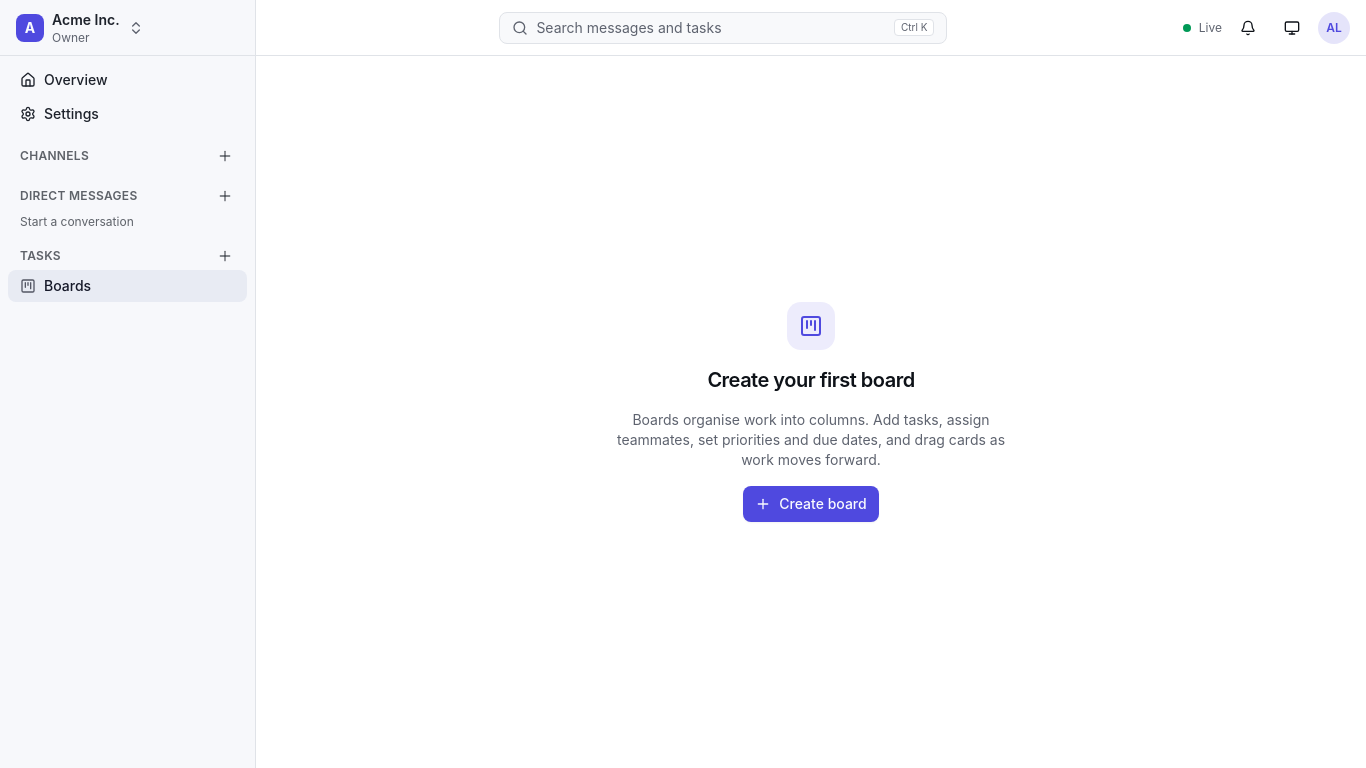
Test: boards › offers to create the first board and opens it
Expected: the heading "Create your first board" is shown, [707, 366, 915, 394]
Click the button "Create board" at (811, 504), box [743, 486, 879, 522]
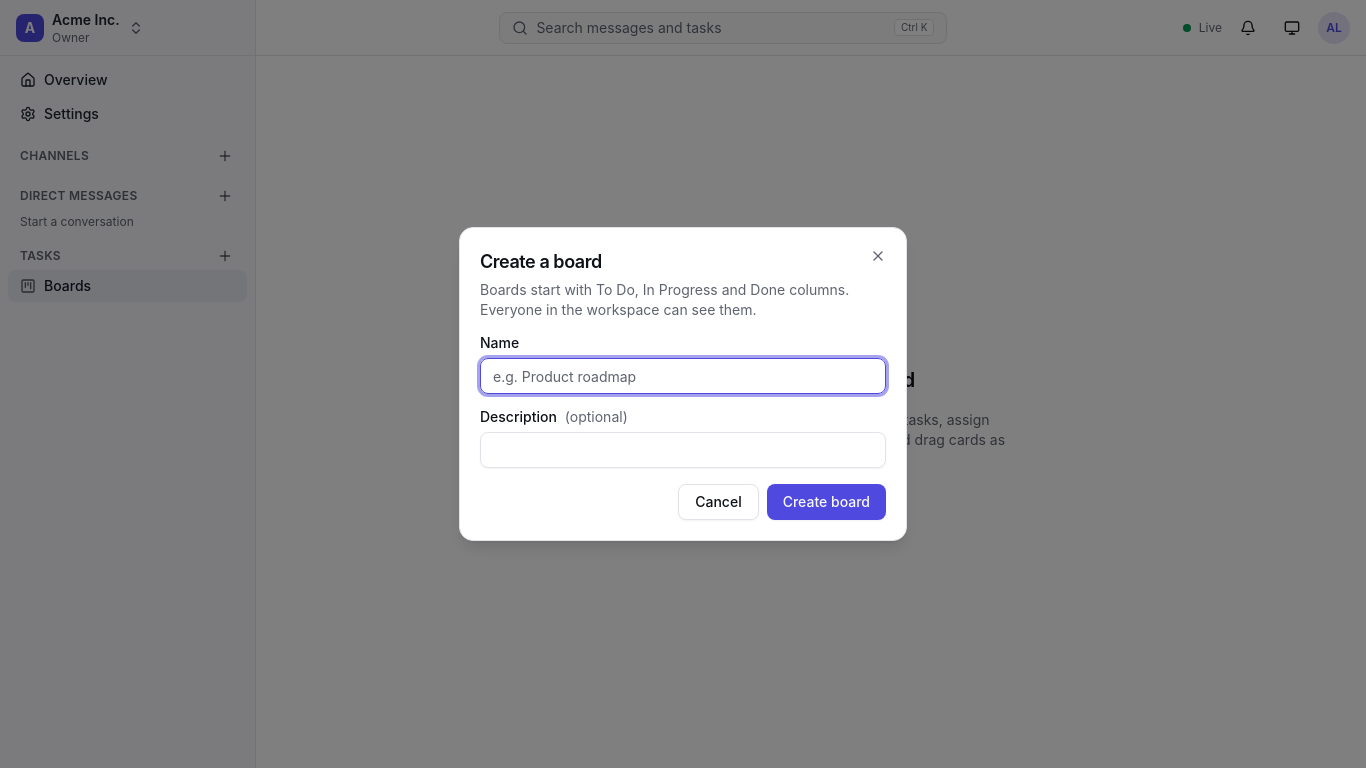
Type "Roadmap" into the field labelled "Name" at (683, 376), box [480, 358, 886, 394]
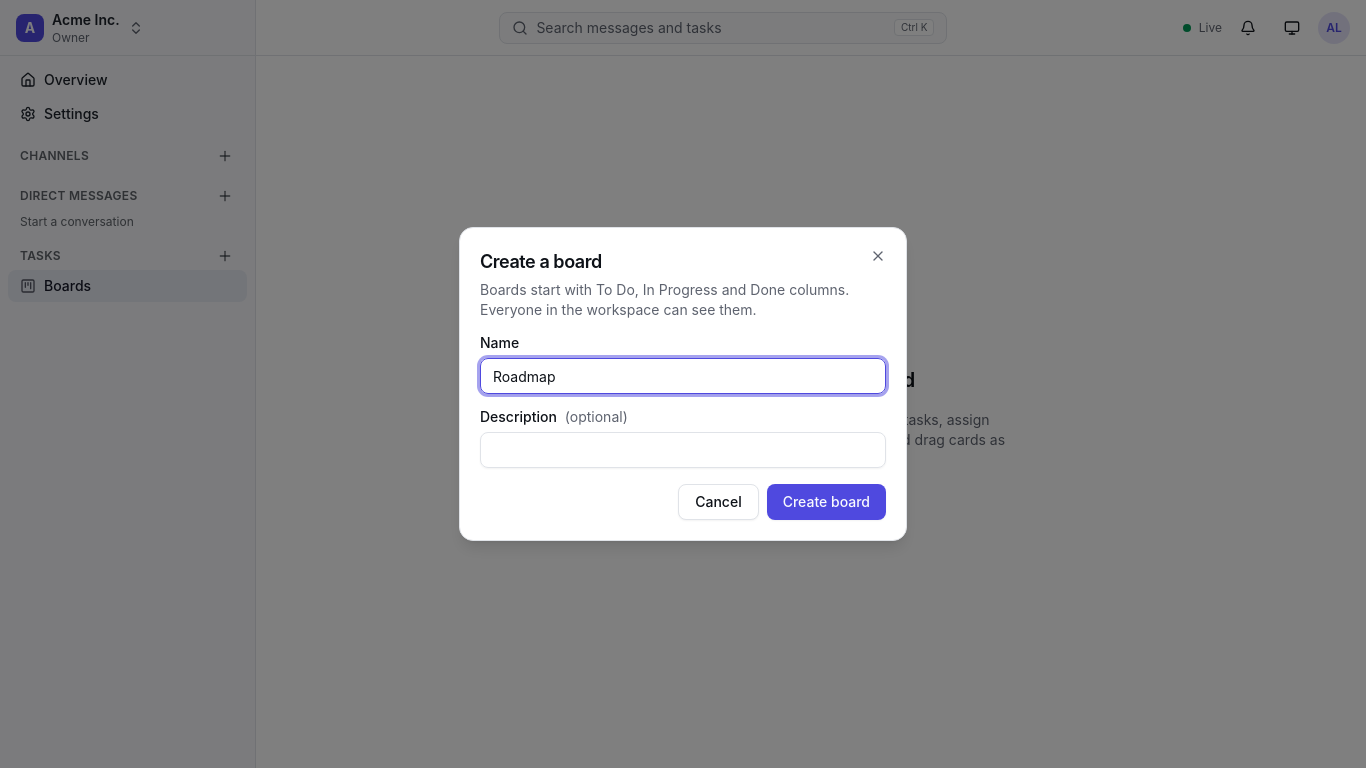
Click the button "Create board" at (826, 502), box [767, 484, 886, 520]
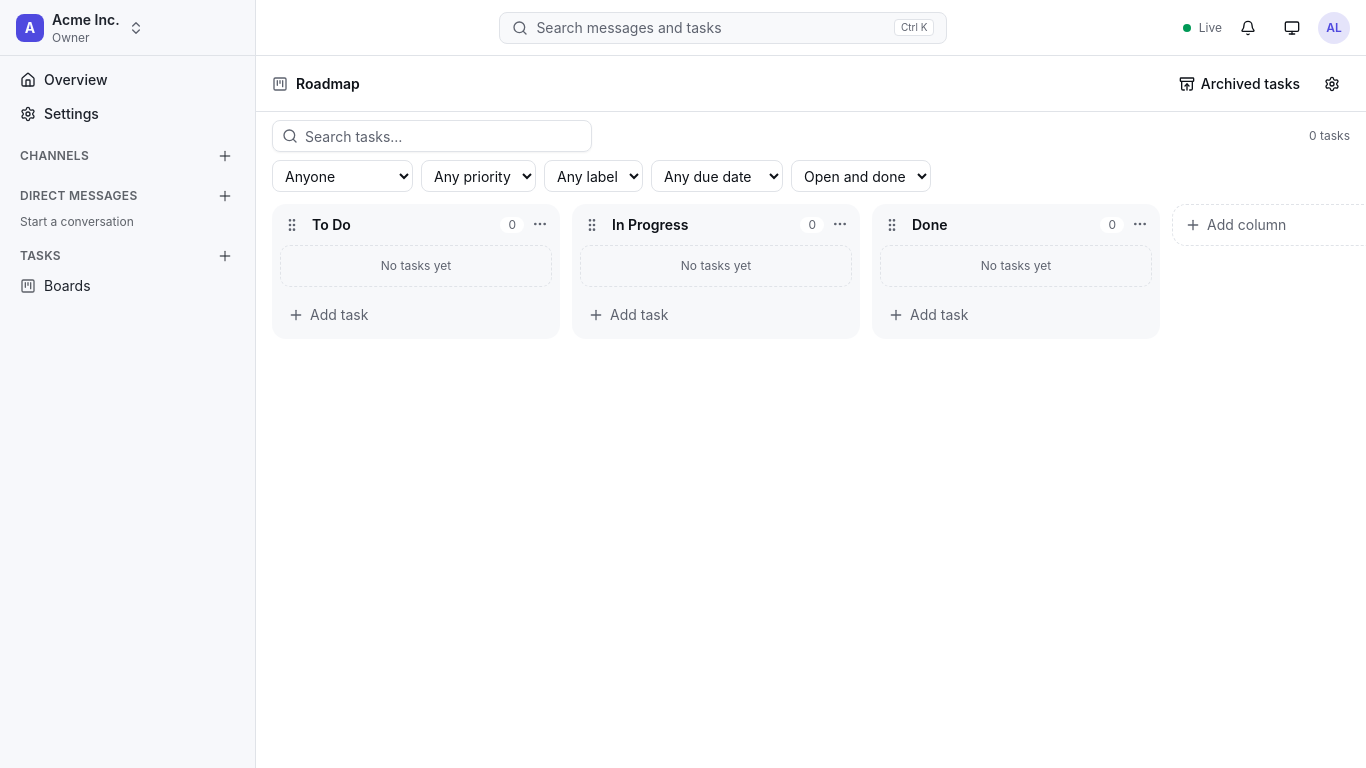
Expected: the heading "Roadmap" is shown, [296, 74, 360, 94]
